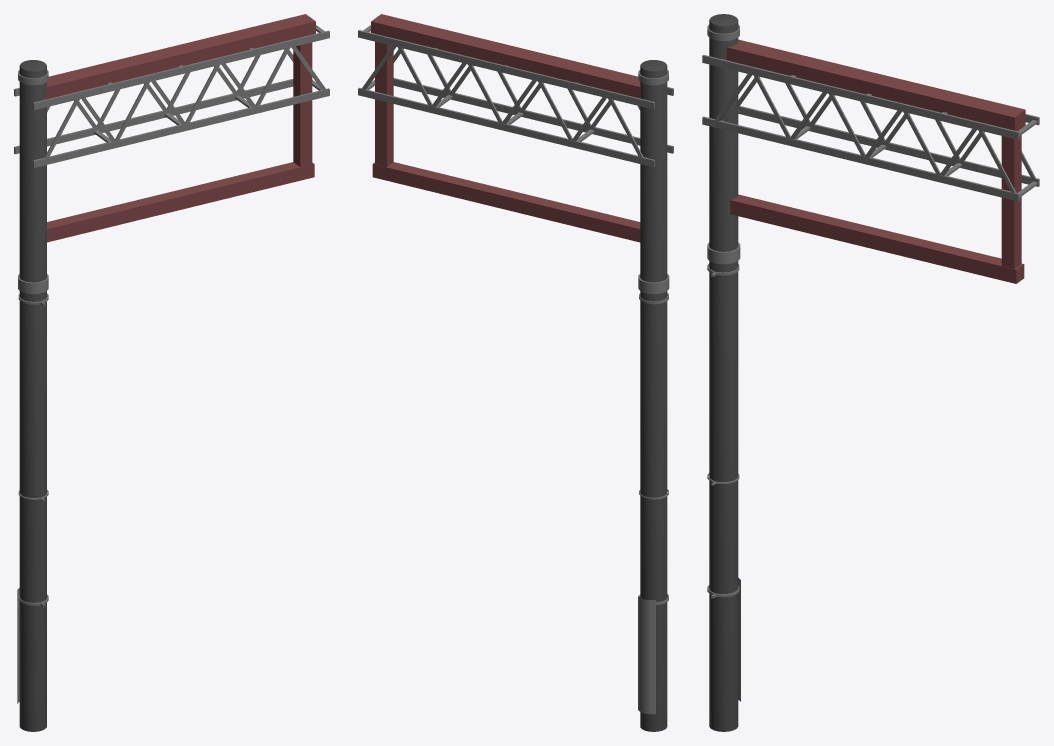
Rendered from SM_pillar_highway_02.fbx.
3 views of the same model, side by side, from view 1: azimuth 30°, elevation 25°; view 2: azimuth 150°, elevation 25°; view 3: azimuth 330°, elevation 25° (orthographic). The views are drawn at different scales.
Visible parts, largest first — view 1: Cylinder196; view 2: Cylinder196; view 3: Cylinder196.
Part boxes in pixels (x1,y1,x2,y2): Cylinder196: (14,14,329,731); Cylinder196: (358,14,673,731); Cylinder196: (702,14,1039,731).
Size of the model in its own units: 136 by 286 by 16.01.
